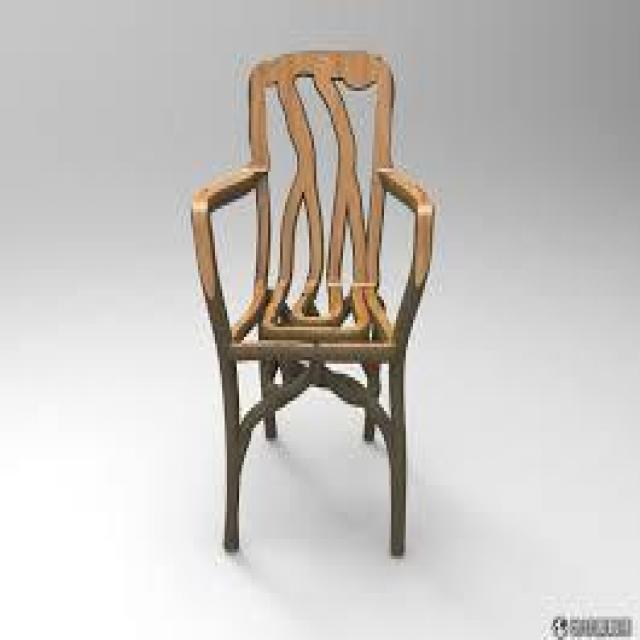chair: (172, 27, 449, 596)
